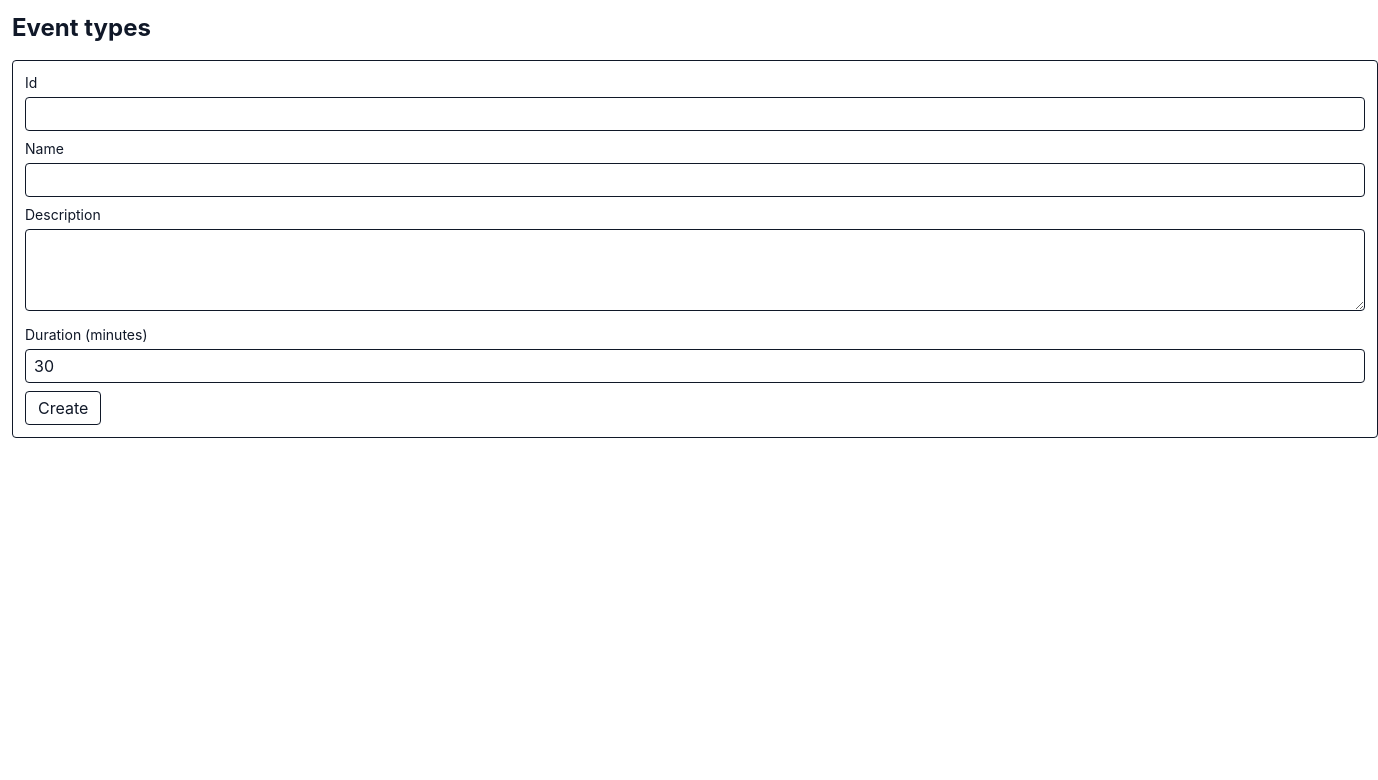
Scenario: HostEventTypesPage › suggests an id from the name and creates the event type
In the field labelled "Name": (695,180) [25,163,1365,197], type "Demo Call"
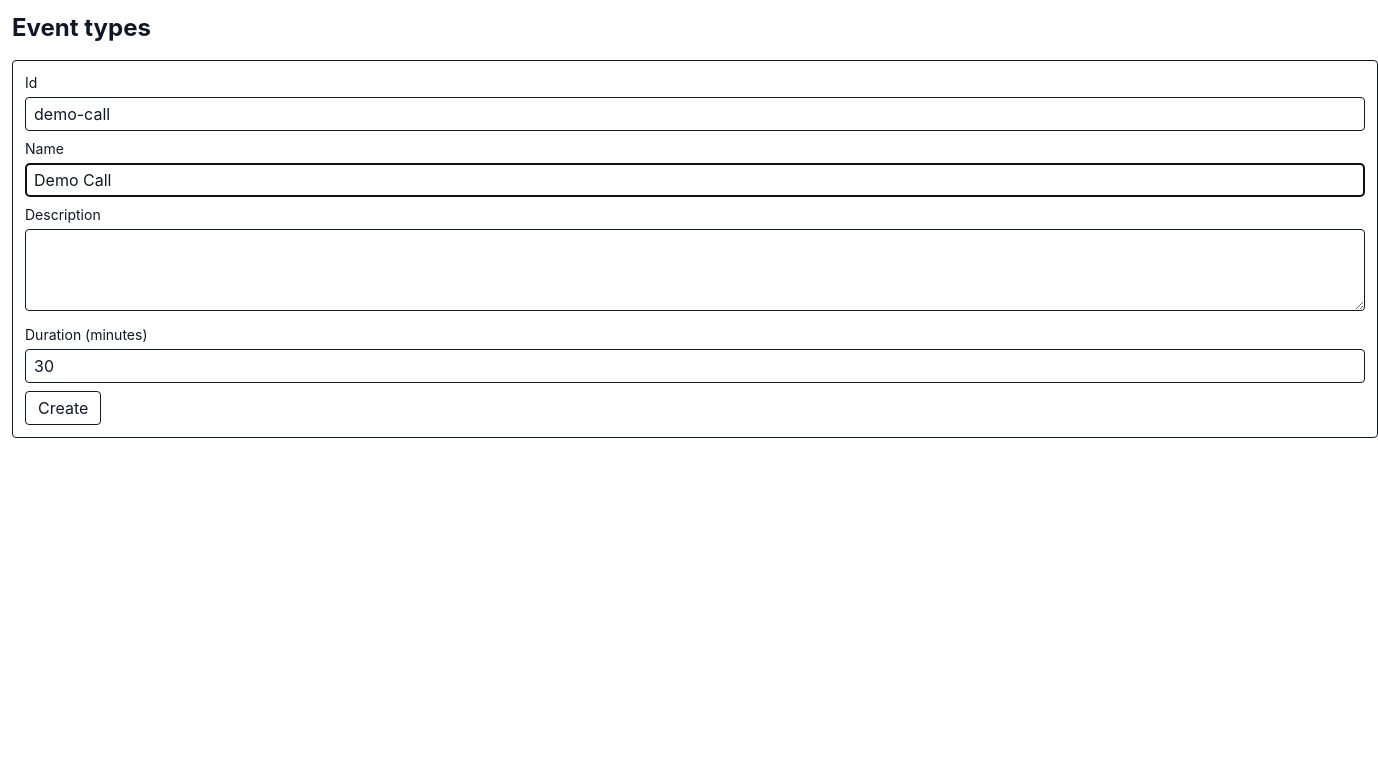
Now the field labelled "Id" holds "demo-call", box [25,97,1365,131]
In the text box labelled "Description": (695,270) [25,229,1365,311], type "A demo call"
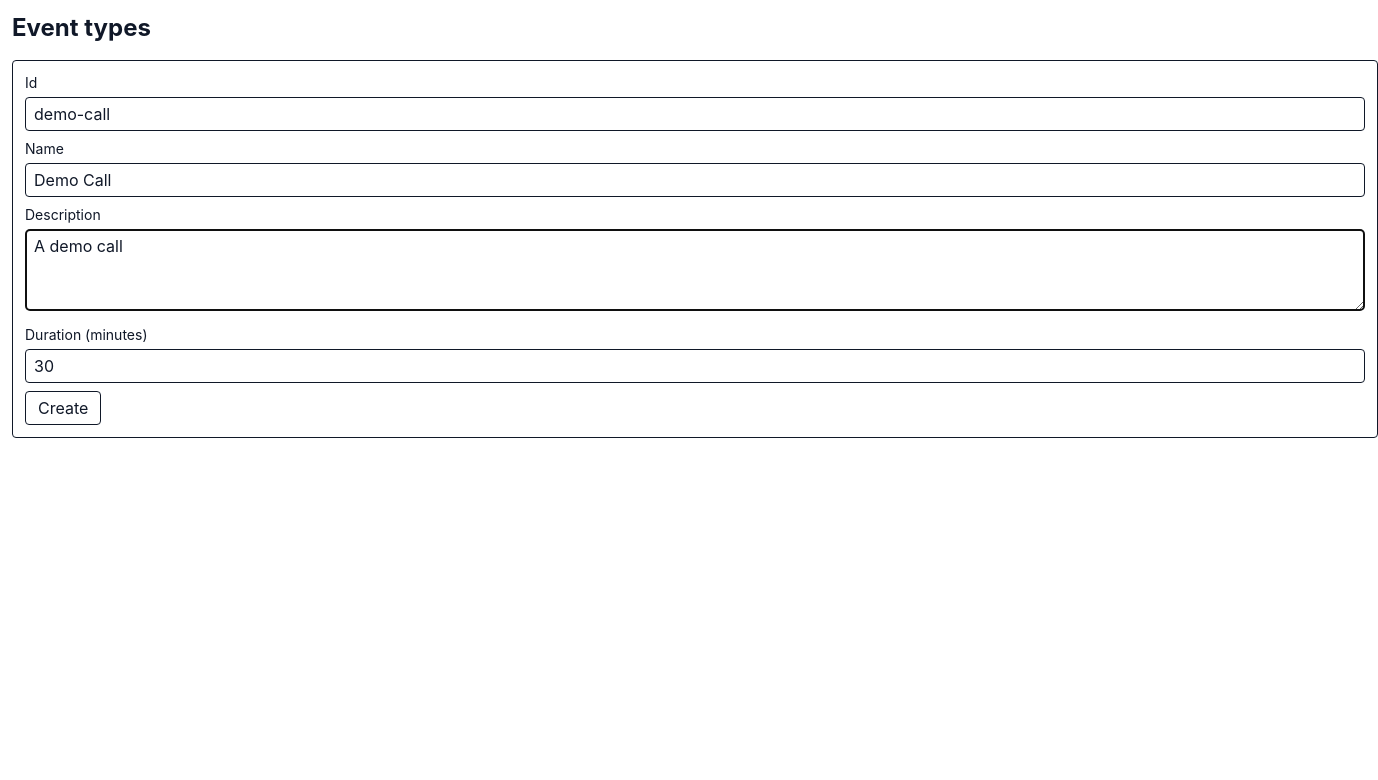
Replace the text in the number field labelled "Duration (minutes)" with "45": (695,366) [25,349,1365,383]
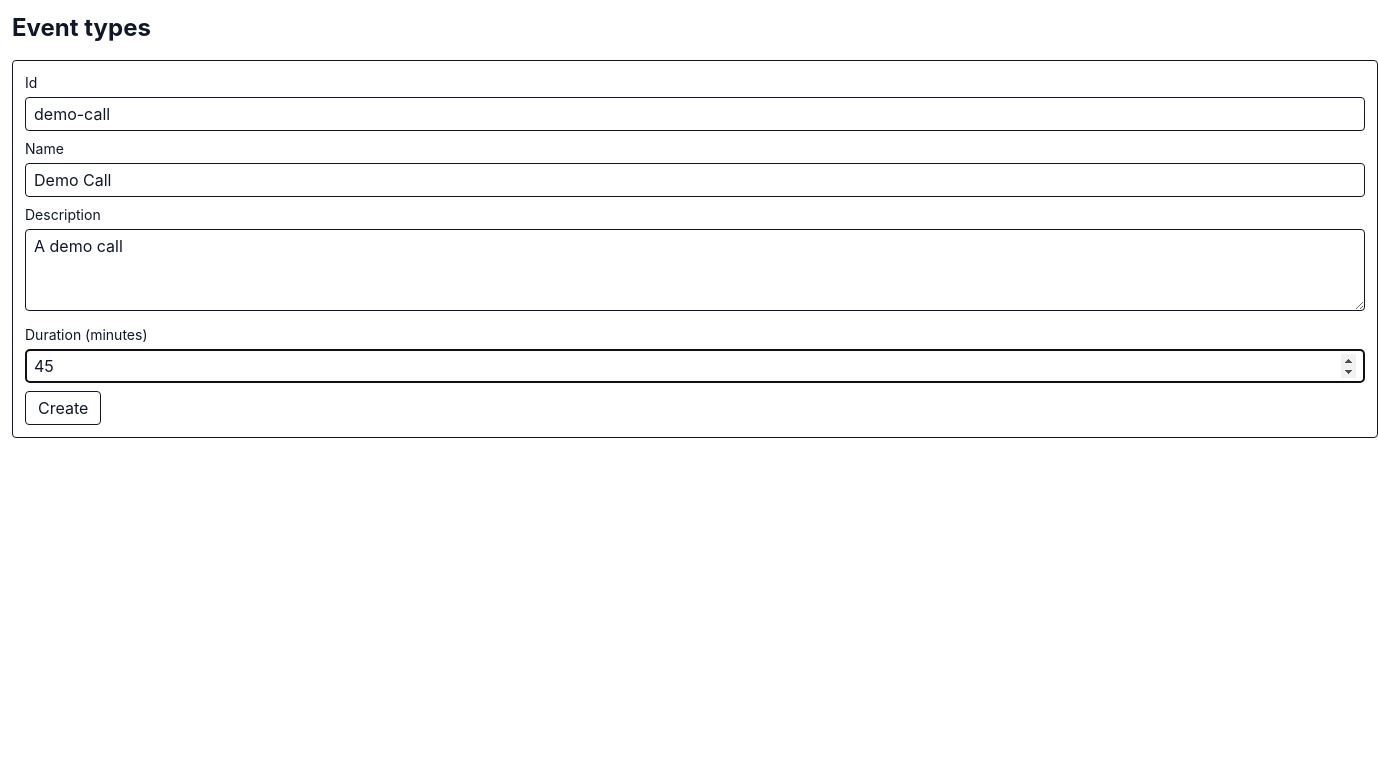
Click the button "Create": (63,408) [25,391,101,425]
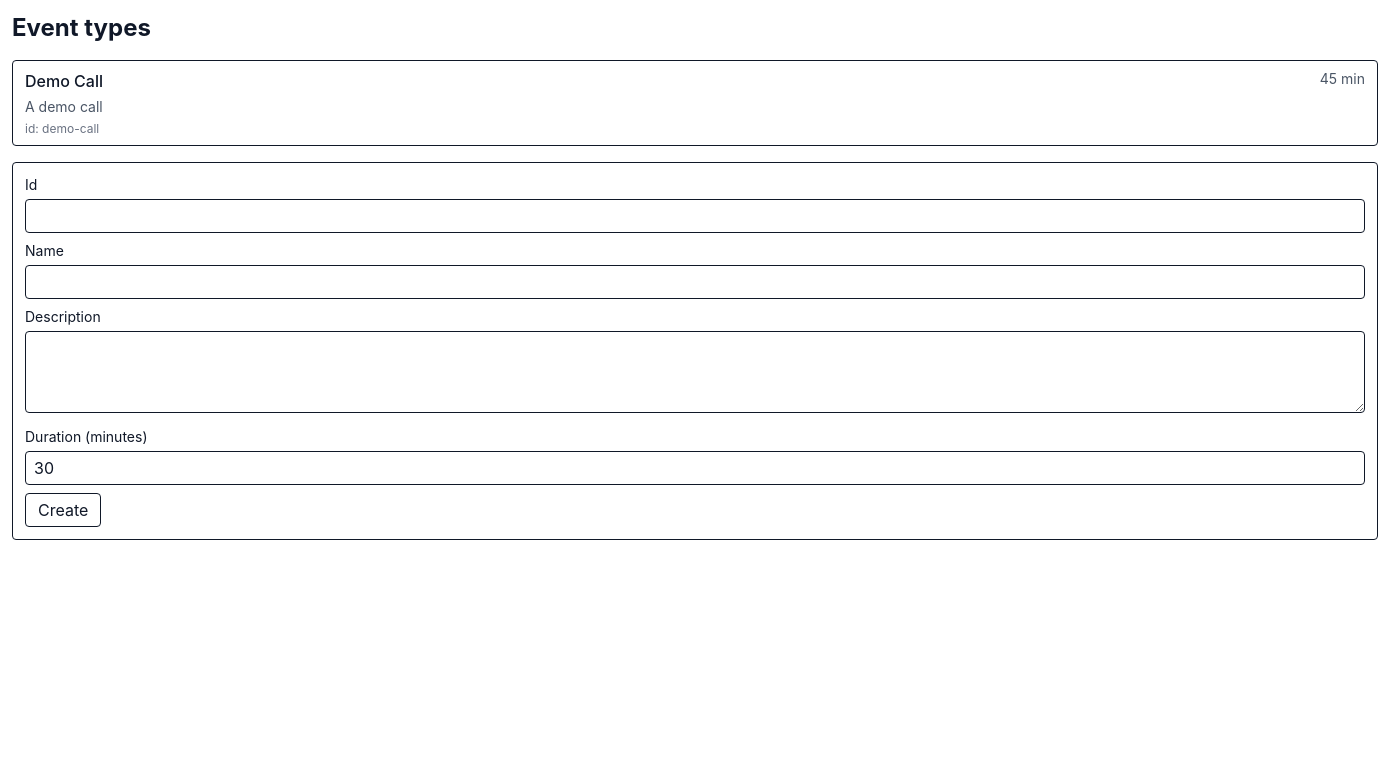
Now the text "Demo Call" is shown, box [25,69,103,93]
Now the text "45 min" is shown, box [1320,69,1365,93]
